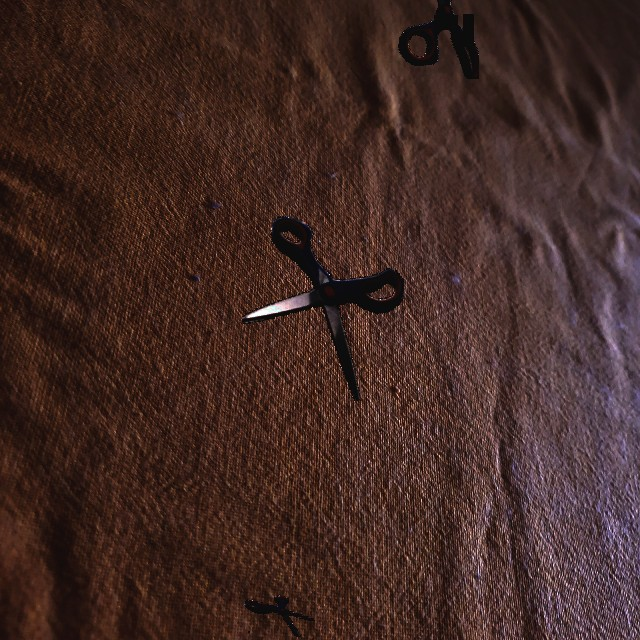scissors: (242, 216, 404, 401), (398, 0, 479, 79), (244, 595, 315, 637)
